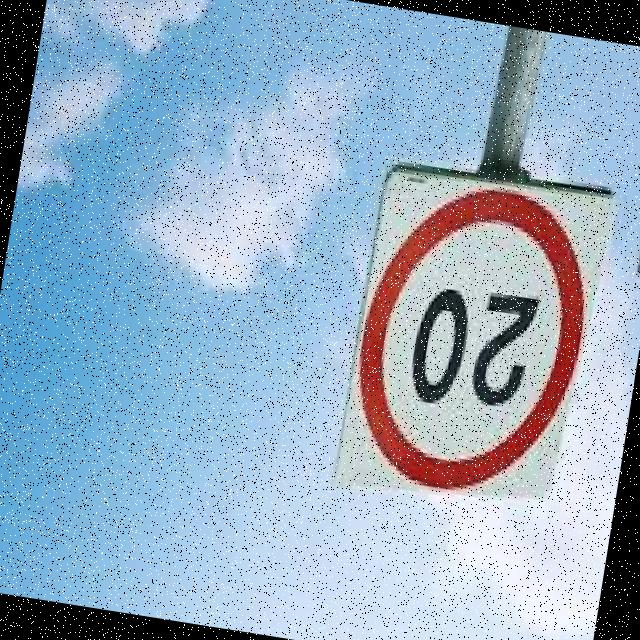speed_limit_20: (339, 175, 600, 514)
